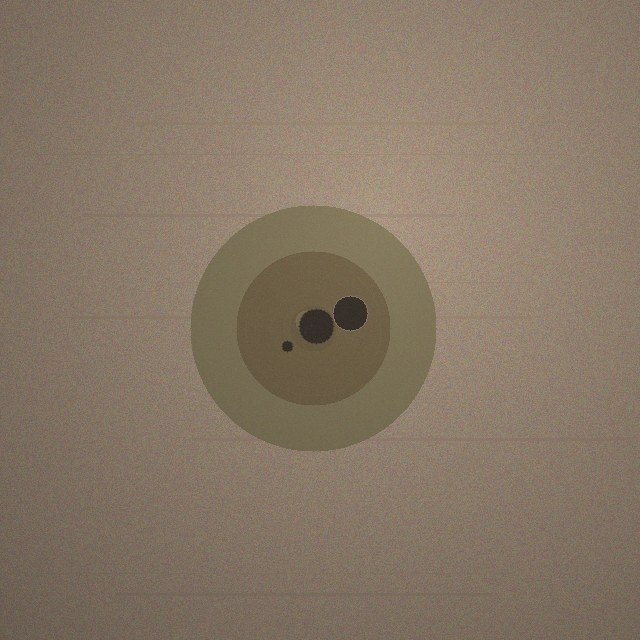shrinkage: (190, 205, 436, 451)
